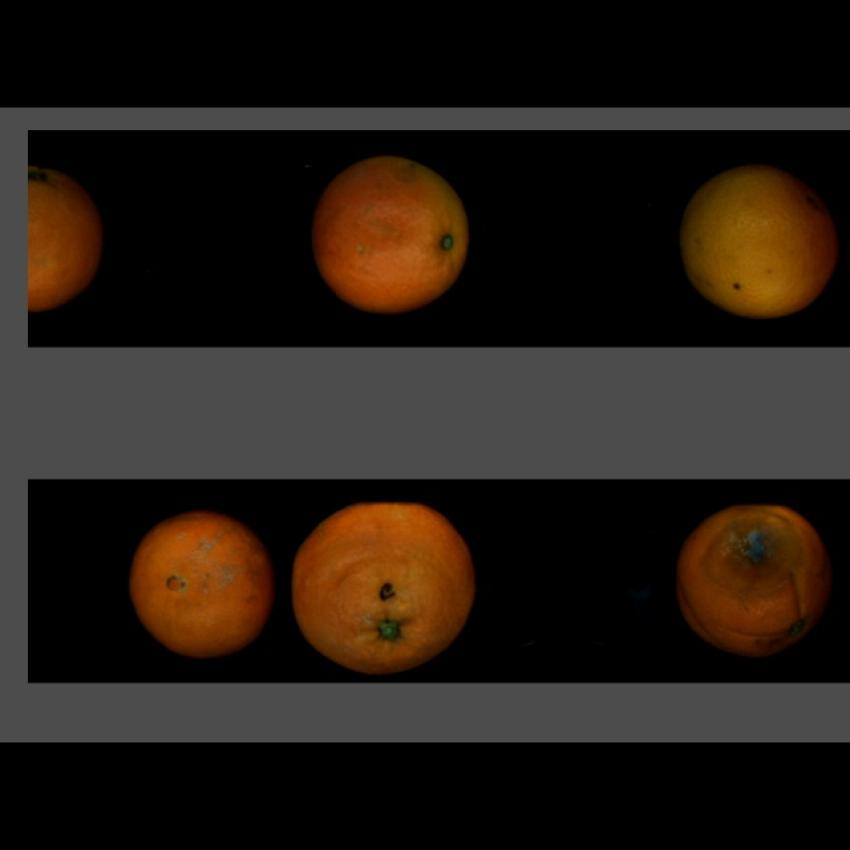Buen estado: (288, 500, 486, 675), (299, 154, 482, 312), (677, 160, 839, 318), (29, 163, 107, 315)
Mal estado: (125, 506, 279, 662), (676, 502, 830, 656)
